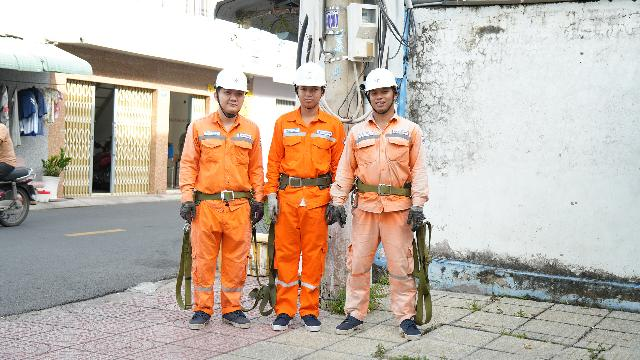gloves: (331, 195, 350, 229), (409, 201, 428, 235), (263, 195, 285, 224), (247, 196, 266, 226), (178, 199, 197, 221), (326, 199, 339, 225)
harness: (184, 179, 258, 214), (347, 171, 414, 203), (265, 167, 339, 192)
helmet: (209, 63, 265, 102), (278, 58, 329, 95), (359, 64, 404, 94)
shoes: (396, 311, 425, 346), (218, 307, 254, 335), (335, 308, 370, 336), (188, 307, 216, 336), (270, 309, 292, 336), (300, 310, 321, 335)
